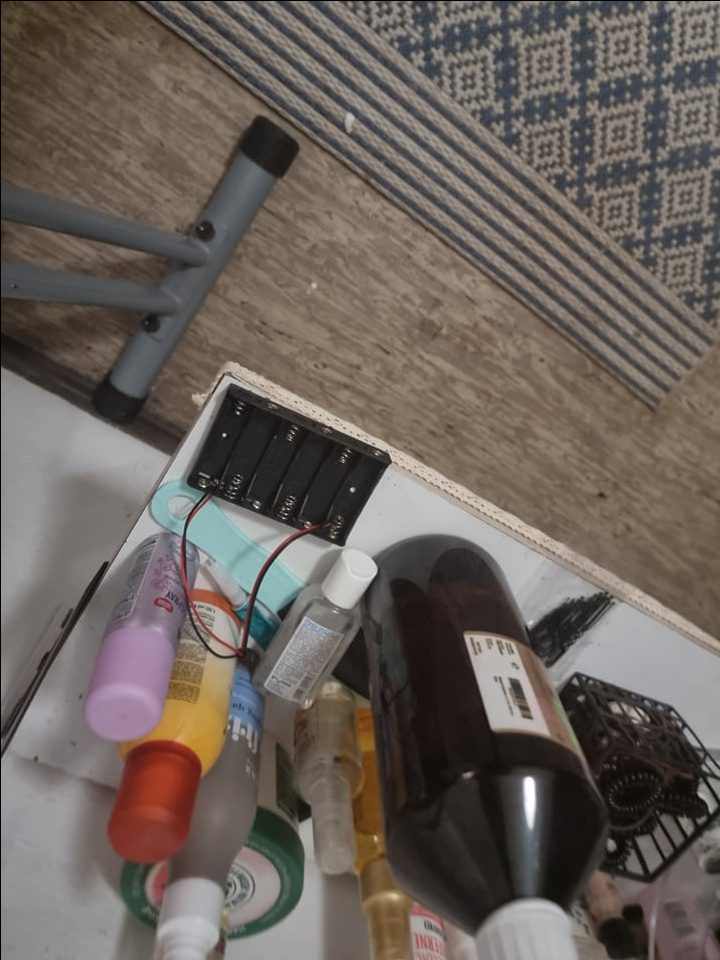BATTERY BOX: (183, 381, 386, 552)
